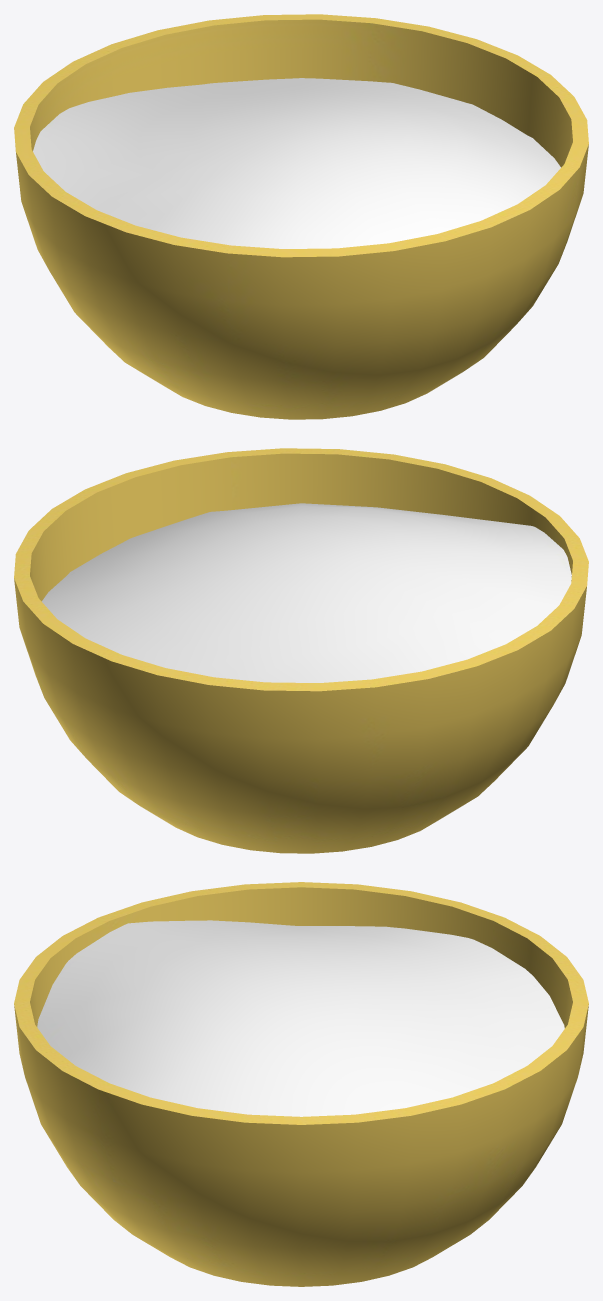
Rendered from Sour_cream.fbx.
The picture shows the model from 3 angles, top to bottom: view 1: azimuth 30°, elevation 25°; view 2: azimuth 150°, elevation 25°; view 3: azimuth 270°, elevation 25°; orthographic projection.
Visible parts, largest first — view 1: Sour_cream; view 2: Sour_cream; view 3: Sour_cream.
Part boxes in pixels (x1,y1,x2,y2): Sour_cream: (14, 14, 588, 419); Sour_cream: (14, 448, 588, 853); Sour_cream: (14, 882, 588, 1286).
Size of the model in its own units: 5.62 by 2.49 by 5.62.
1 material, 1 textured.
